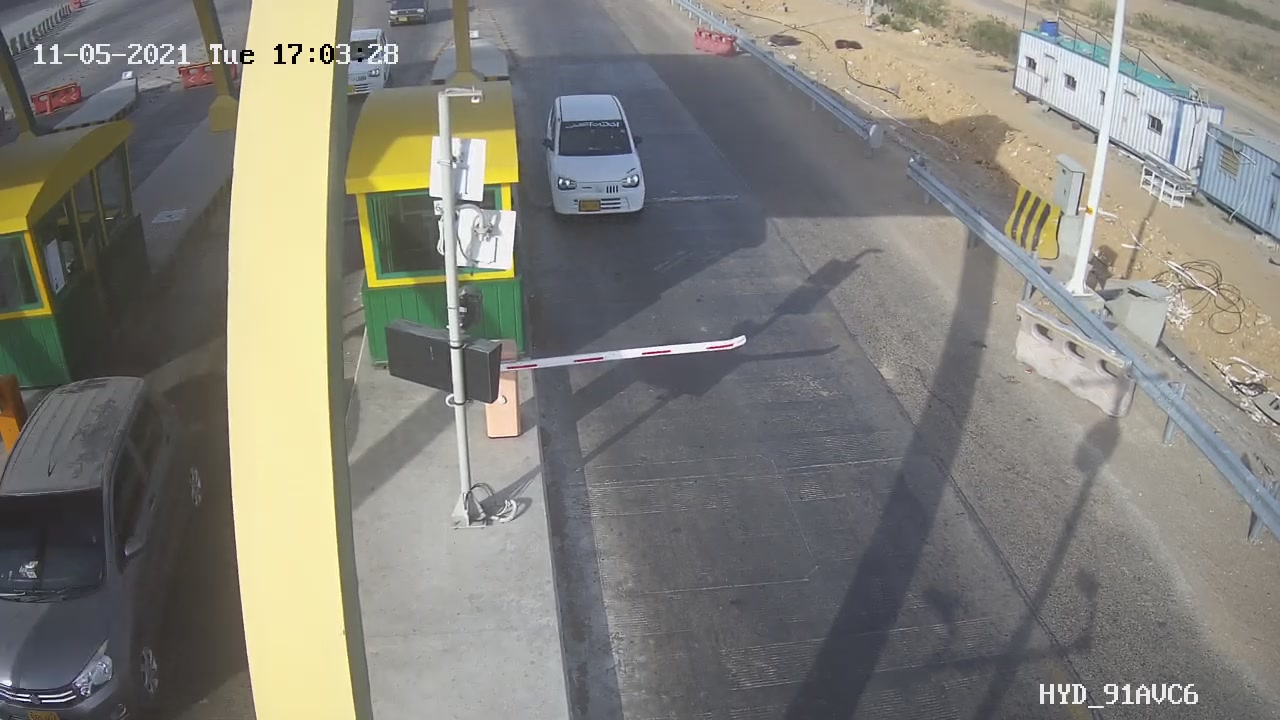F1: (527, 81, 665, 234)
